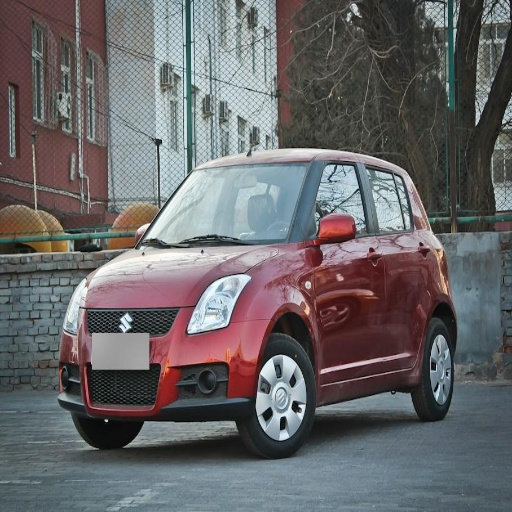back_left_door: (362, 162, 427, 371)
front_bumper: (60, 305, 269, 417)
front_glass: (137, 165, 316, 246)
front_left_door: (308, 159, 384, 386)
